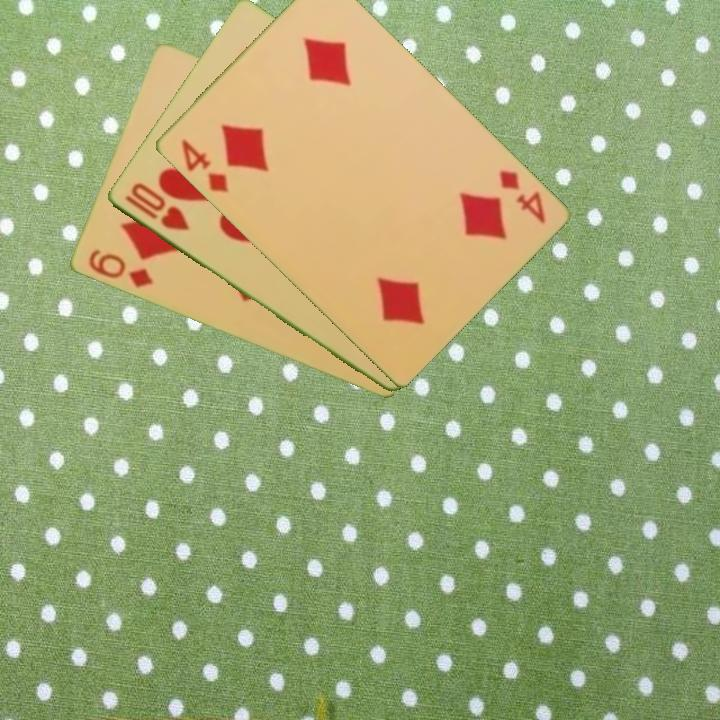10h: (121, 179, 192, 234)
4d: (177, 135, 231, 196), (495, 167, 548, 227)
6d: (84, 246, 156, 292)
